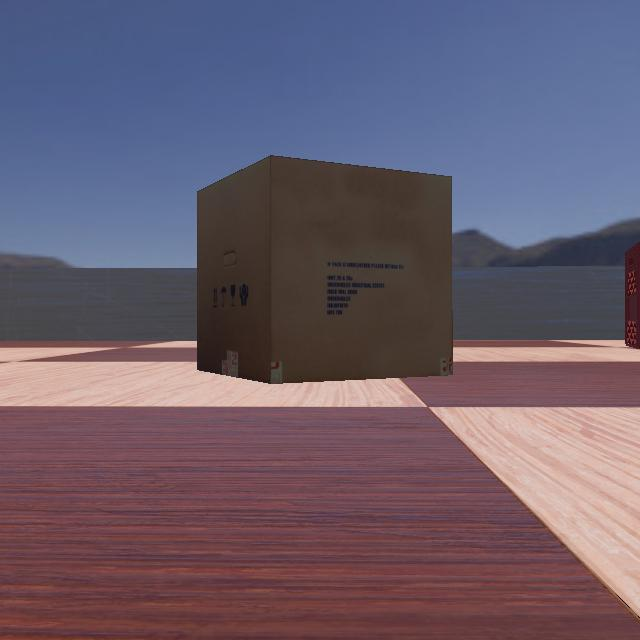cardboard-box: (162, 154, 472, 383)
plastic-crate: (597, 232, 639, 352)
